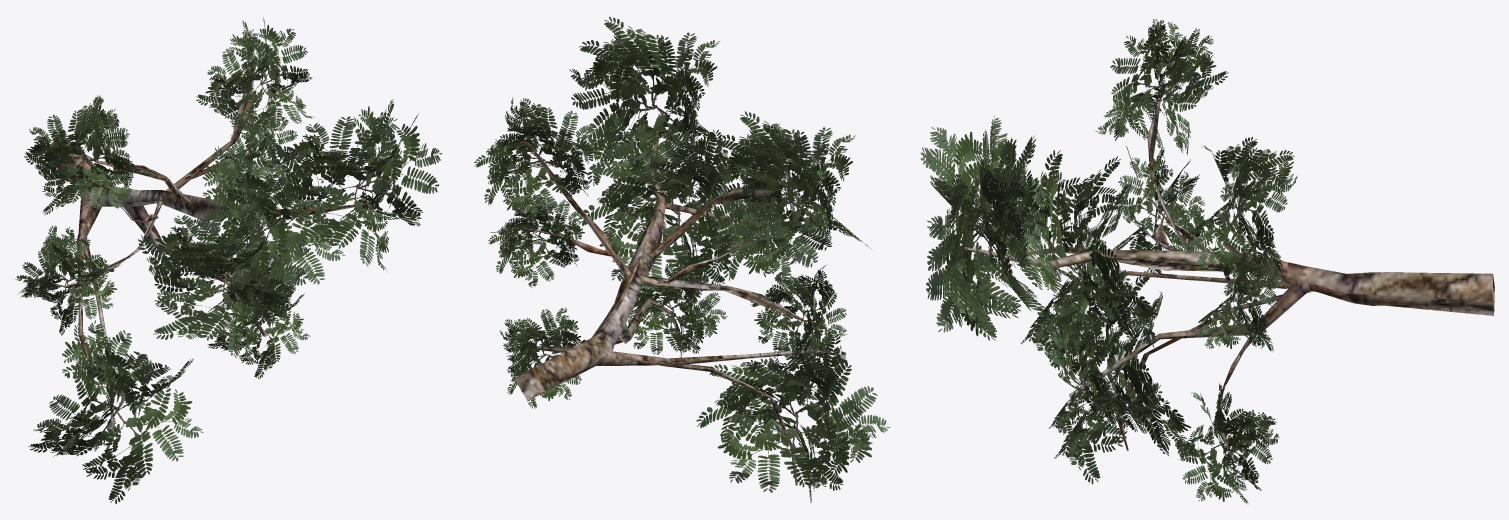
The model's file is tree.obj.
3 views of the same model, side by side, from view 1: azimuth 30°, elevation 25°; view 2: azimuth 150°, elevation 25°; view 3: azimuth 270°, elevation 25° (orthographic). The views are drawn at different scales.
Visible parts, largest first — view 1: Plane.000_Plane.008, Plane.005_Plane.007, Plane.002_Plane.010, Plane.001_Plane.009, Plane.006_Plane.013, tree_small_joined, Plane.007_Plane.014, Plane.004_Plane.012, Plane.003_Plane.011, Plane.008_Plane.015, Plane.009_Plane.016; view 2: Plane.002_Plane.010, Plane.001_Plane.009, tree_small_joined, Plane.005_Plane.007, Plane.000_Plane.008, Plane.007_Plane.014, Plane.006_Plane.013, Plane.004_Plane.012, Plane.008_Plane.015, Plane.003_Plane.011, Plane.009_Plane.016; view 3: Plane.005_Plane.007, tree_small_joined, Plane.001_Plane.009, Plane.002_Plane.010, Plane.006_Plane.013, Plane.007_Plane.014, Plane.009_Plane.016, Plane.000_Plane.008, Plane.003_Plane.011, Plane.004_Plane.012, Plane.008_Plane.015.
Part boxes in pixels (x1,y1,x2,y2): Plane.000_Plane.008: [138, 191, 310, 362]; Plane.005_Plane.007: [269, 99, 442, 271]; Plane.002_Plane.010: [28, 320, 203, 503]; Plane.001_Plane.009: [178, 144, 344, 327]; Plane.006_Plane.013: [24, 95, 152, 215]; tree_small_joined: [44, 40, 367, 466]; Plane.007_Plane.014: [196, 18, 314, 146]; Plane.004_Plane.012: [15, 225, 120, 335]; Plane.003_Plane.011: [207, 275, 310, 378]; Plane.008_Plane.015: [210, 109, 297, 195]; Plane.009_Plane.016: [227, 239, 301, 324]; Plane.002_Plane.010: [696, 328, 889, 502]; Plane.001_Plane.009: [578, 120, 769, 296]; tree_small_joined: [490, 114, 836, 485]; Plane.005_Plane.007: [569, 16, 734, 190]; Plane.000_Plane.008: [709, 111, 870, 286]; Plane.007_Plane.014: [474, 97, 597, 223]; Plane.006_Plane.013: [730, 123, 831, 249]; Plane.004_Plane.012: [750, 265, 846, 367]; Plane.008_Plane.015: [488, 190, 584, 287]; Plane.003_Plane.011: [628, 261, 727, 357]; Plane.009_Plane.016: [500, 307, 586, 408]; Plane.005_Plane.007: [920, 121, 1063, 340]; tree_small_joined: [965, 82, 1494, 462]; Plane.001_Plane.009: [1019, 150, 1157, 370]; Plane.002_Plane.010: [1052, 265, 1191, 484]; Plane.006_Plane.013: [1095, 19, 1228, 158]; Plane.007_Plane.014: [1183, 136, 1297, 272]; Plane.009_Plane.016: [1175, 383, 1279, 503]; Plane.000_Plane.008: [920, 116, 1062, 333]; Plane.003_Plane.011: [1044, 317, 1129, 443]; Plane.004_Plane.012: [1113, 148, 1215, 273]; Plane.008_Plane.015: [1195, 245, 1284, 351].
Bounding box in the file's own units: 9.41 × 10.52 × 11.48.
